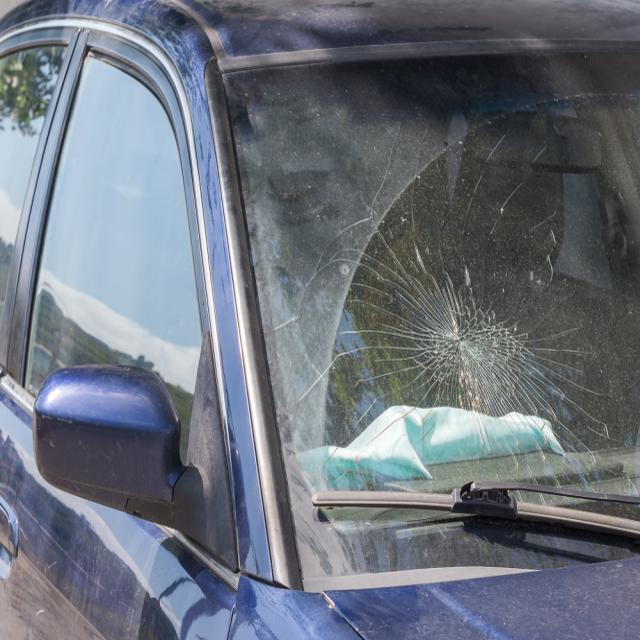Windshield: (336, 170, 579, 487)
